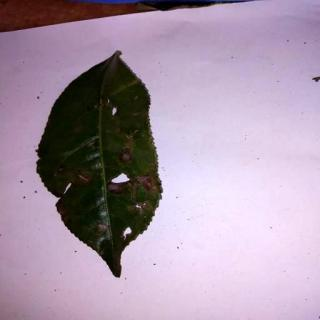Anthracnose: (37, 52, 165, 281)
